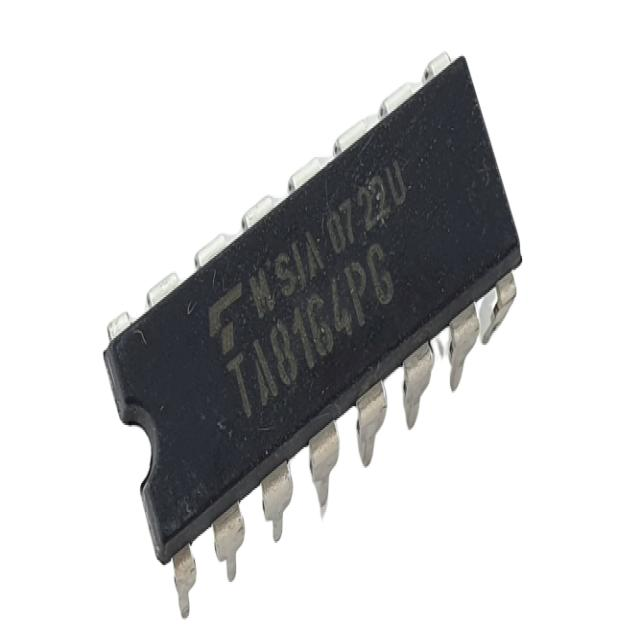IC: (106, 49, 521, 620)
